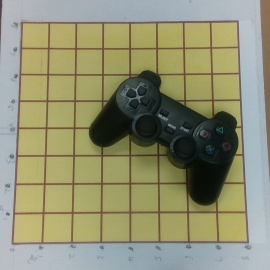remote: (88, 69, 239, 206)
